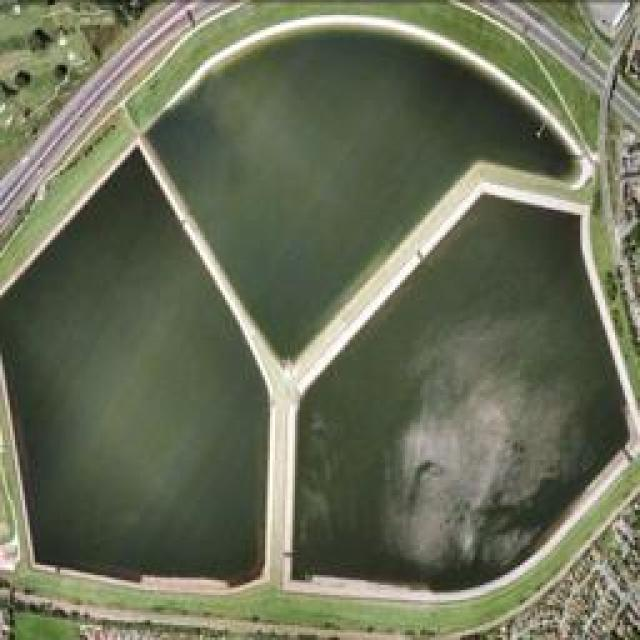Lake: (0, 26, 640, 631)
